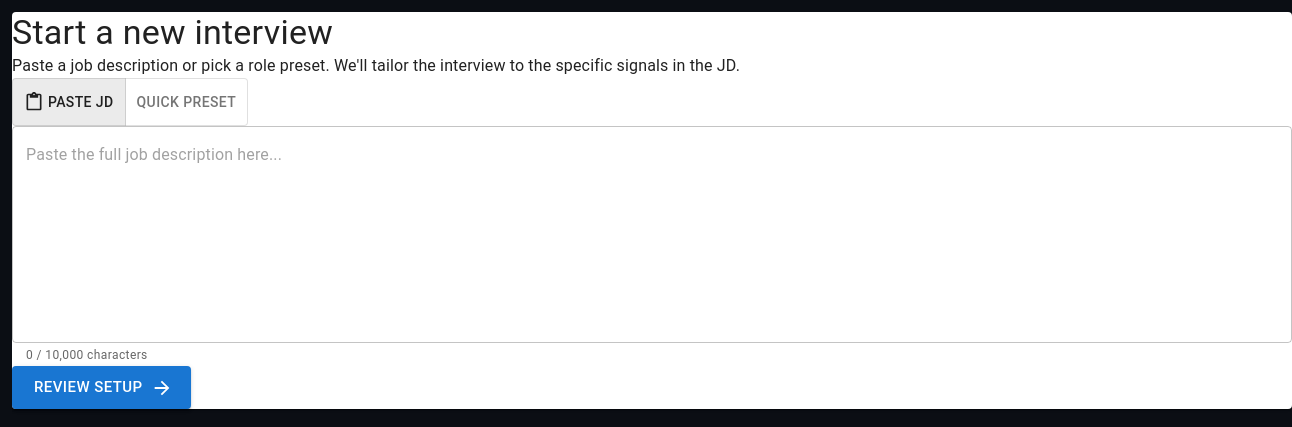
Test case: JdInput › shows error when paste text is too short
The image size is (1292, 427).
Type "Too short" into the text box named "job description text" at x=652, y=235, box left=26, top=143, right=1278, bottom=327
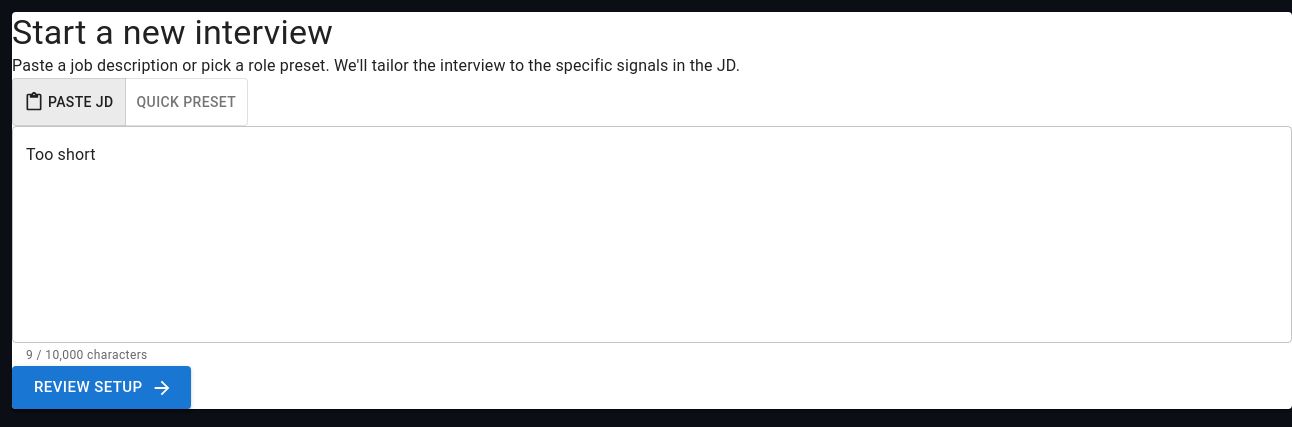
Click the button "Review setup" at x=101, y=388, box left=12, top=366, right=190, bottom=409
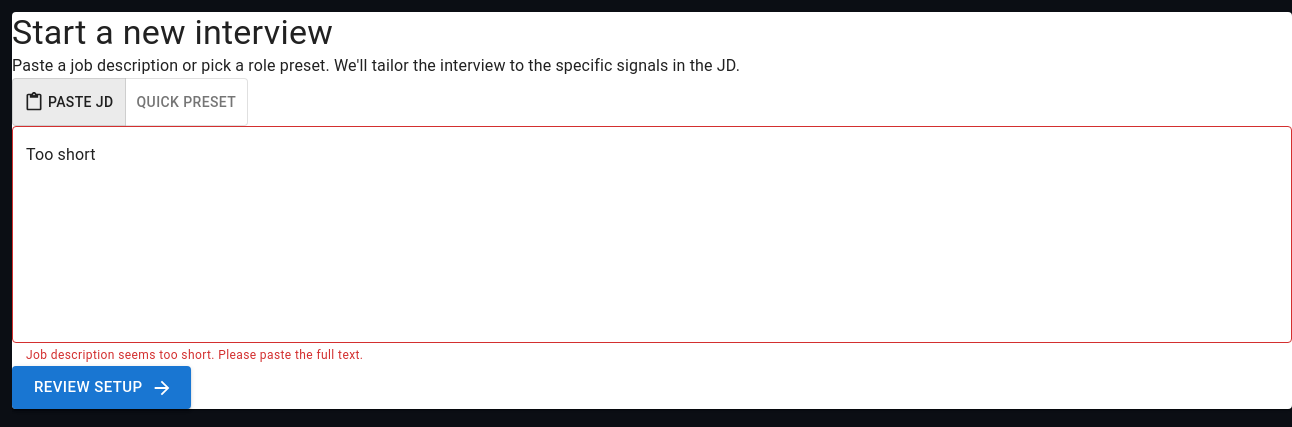
Now the text "Job description seems too short. Please paste the full text." is shown, box left=26, top=348, right=363, bottom=362
